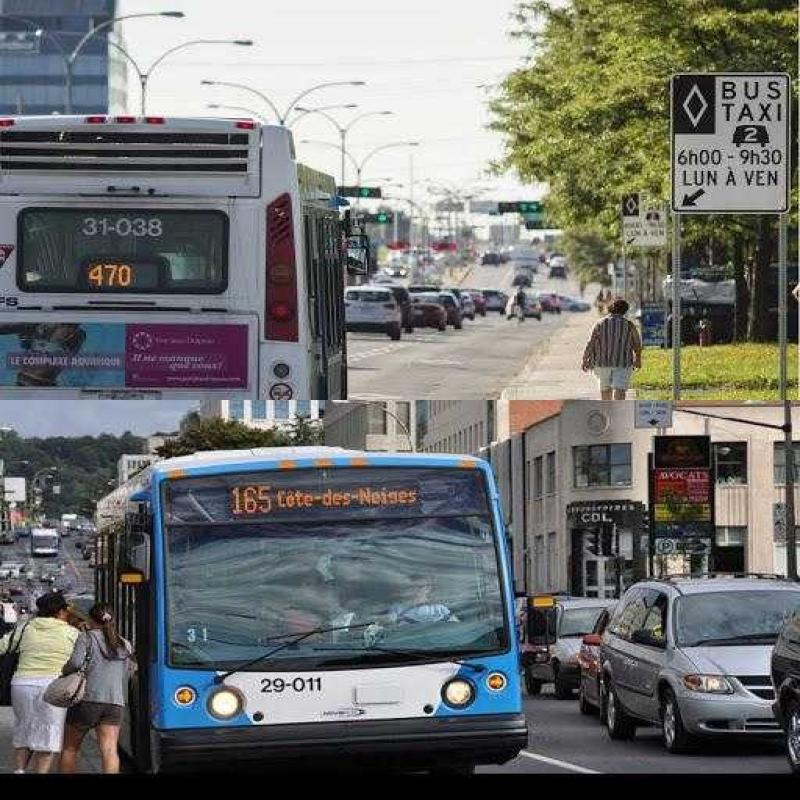bus: (129, 445, 536, 775), (34, 70, 334, 418)
